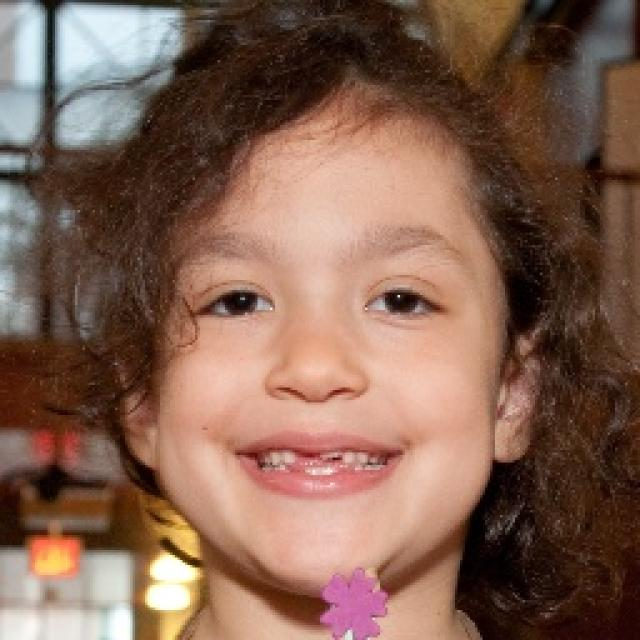earlobe: (492, 328, 546, 463), (112, 338, 164, 472)
